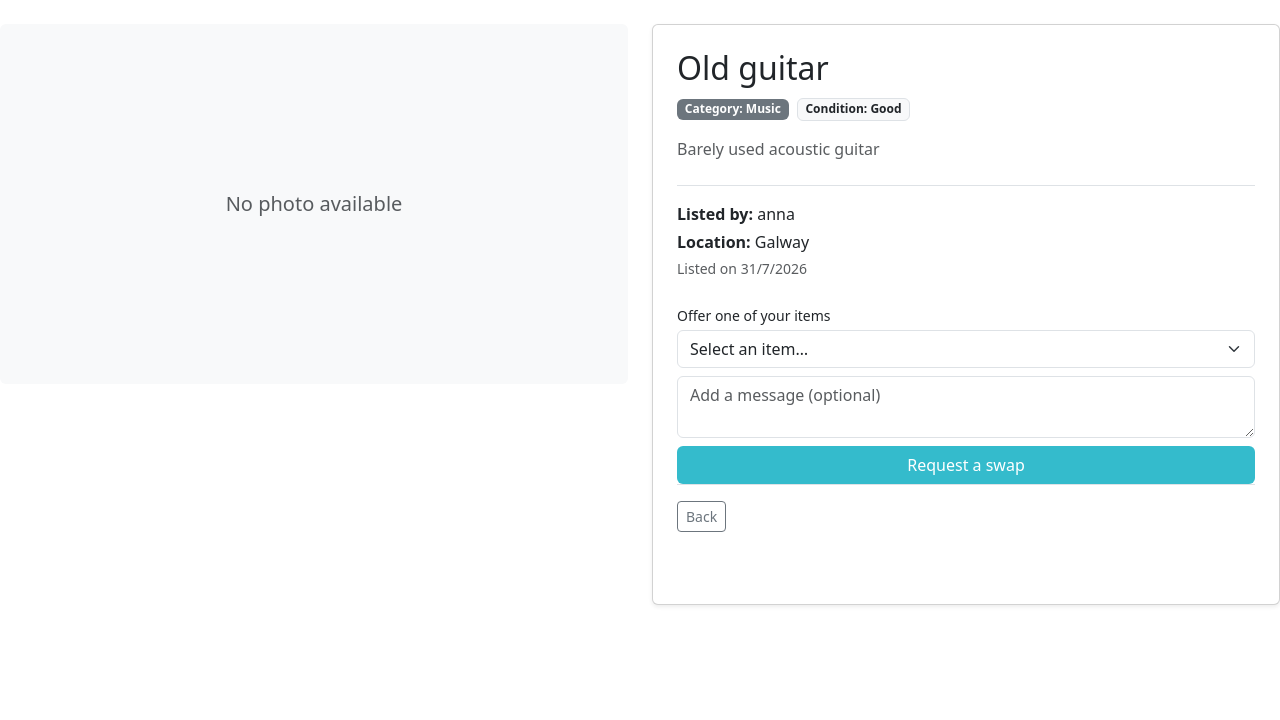
Test: ItemDetailPage › logged-in user can send a swap request
This screenshot has width=1280, height=720.
Expected: the heading "Old guitar" is shown, x1=677 y1=46 x2=829 y2=89
Select "My spare bike" in the dropdown at (966, 349), box x1=677 y1=330 x2=1255 y2=368
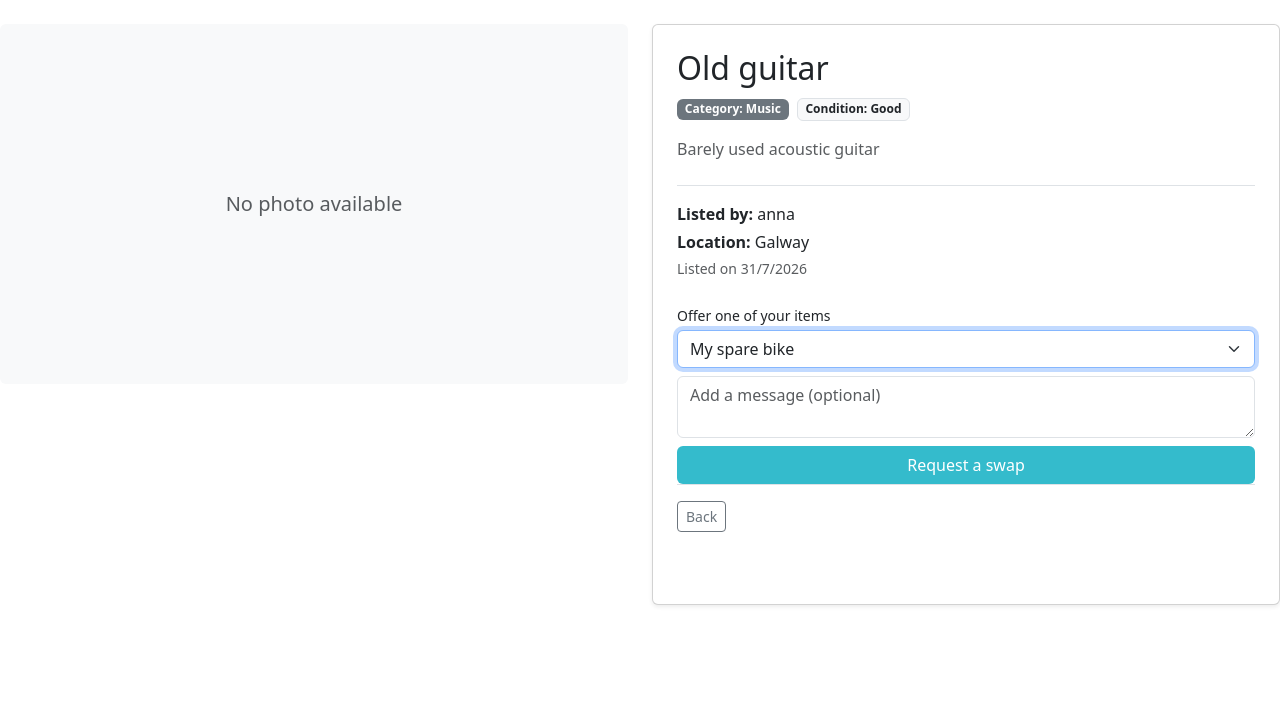
Click the button "Request a swap".
click(966, 465)  # box x1=677 y1=446 x2=1255 y2=484
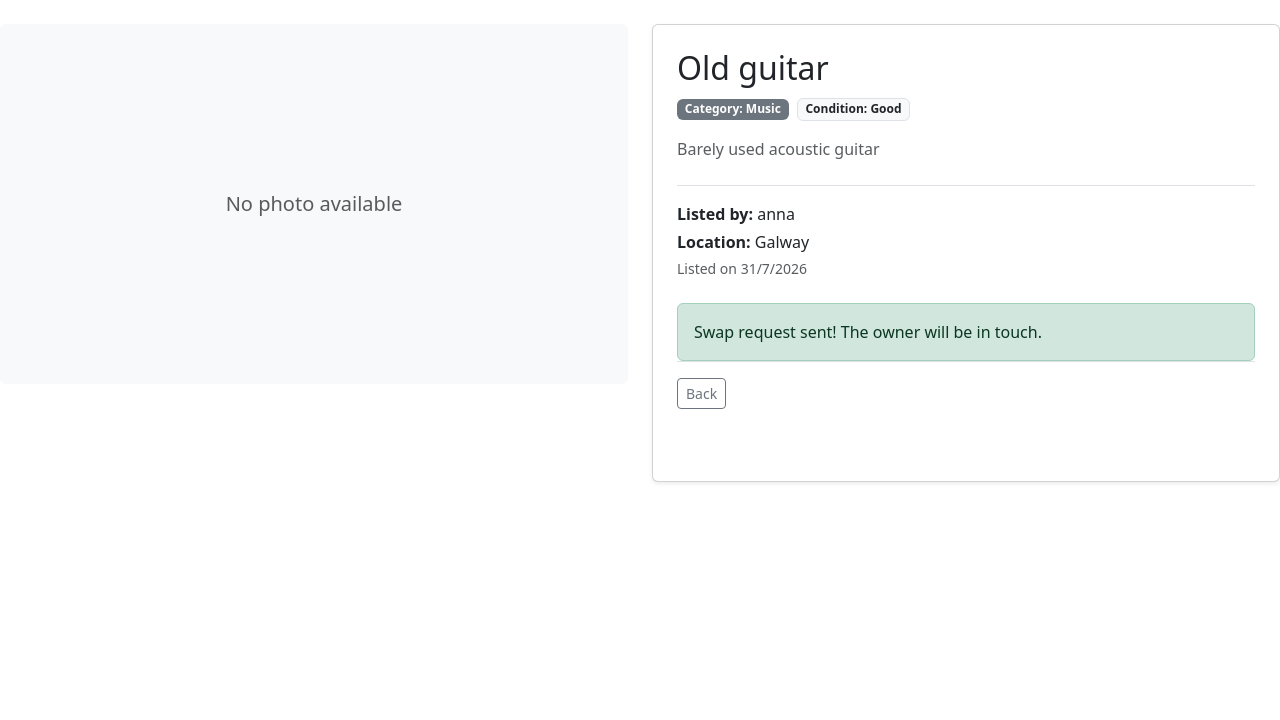
Now the text "Swap request sent! The owner will be in touch." is shown, box x1=677 y1=303 x2=1255 y2=361
